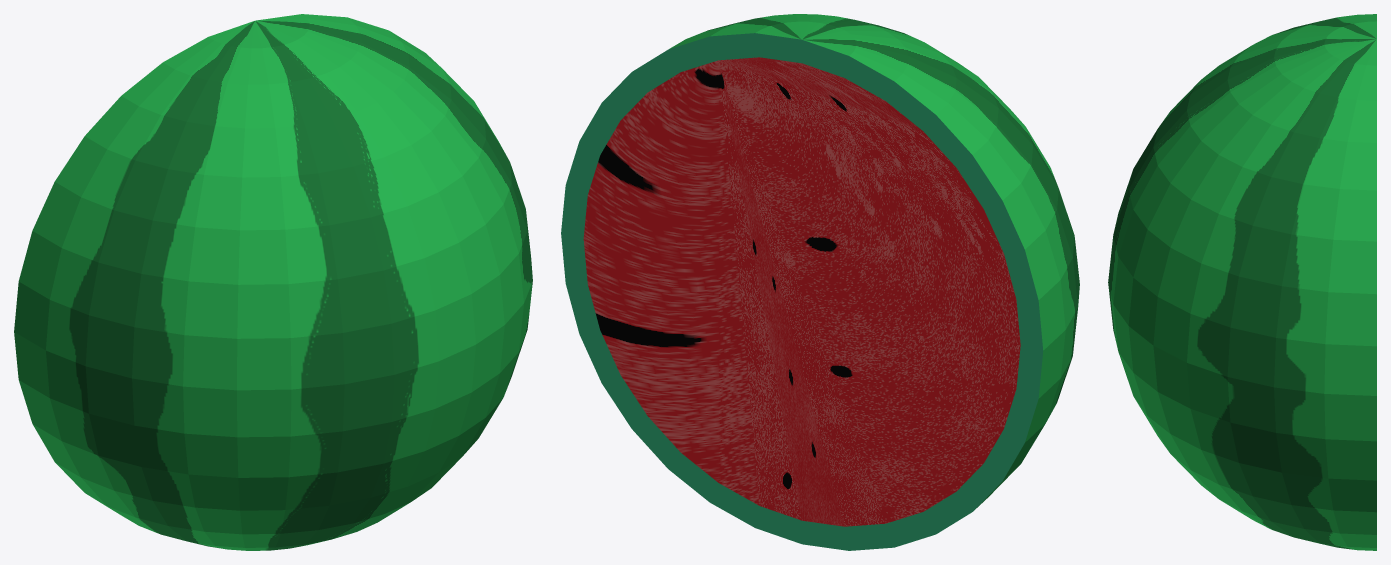
Rendered from slice111.fbx.
3 renders of one model, left to right at view 1: azimuth 30°, elevation 25°; view 2: azimuth 150°, elevation 25°; view 3: azimuth 270°, elevation 25°, orthographic. The views are drawn at different scales.
Parts seen in each view (by area): view 1: Sphere; view 2: Sphere; view 3: Sphere.
Boxes of the visible parts, <box> form: Sphere: <box>14,14,532,550</box>; Sphere: <box>561,14,1079,550</box>; Sphere: <box>1108,14,1376,550</box>.
Bounding box in the file's own units: 200 × 200 × 100.
